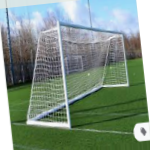goals: (23, 19, 134, 132)
